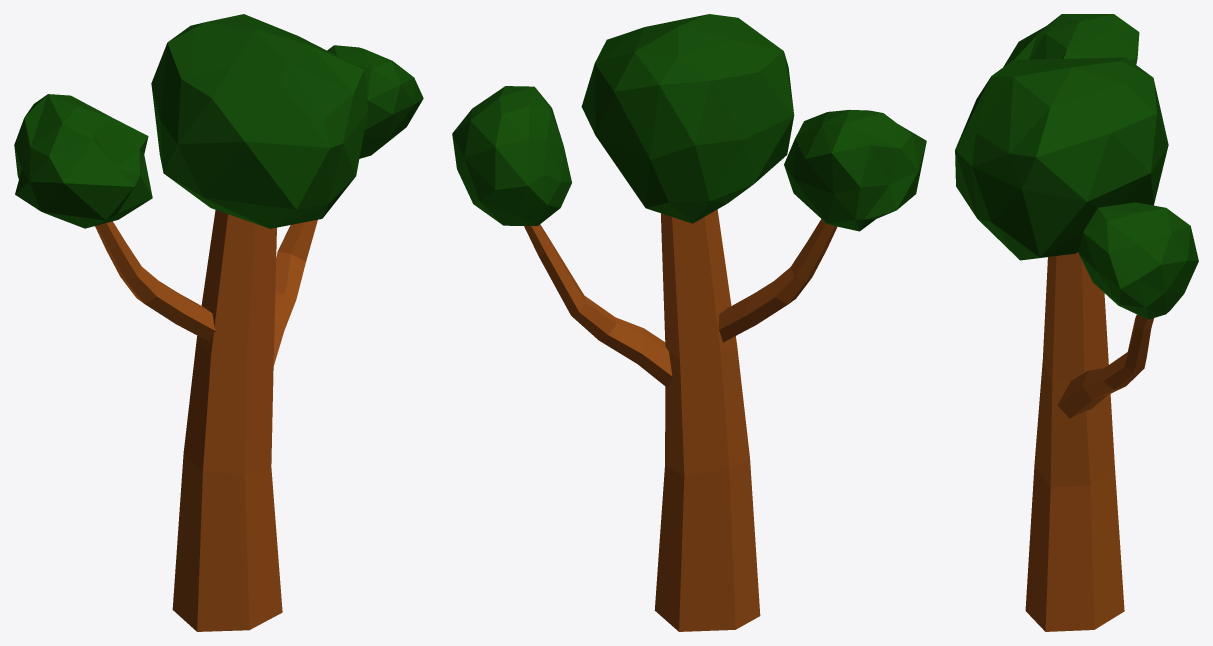
The model's file is Oak2.fbx.
3 renders of one model, left to right at view 1: azimuth 30°, elevation 25°; view 2: azimuth 150°, elevation 25°; view 3: azimuth 270°, elevation 25°, orthographic. The views are drawn at different scales.
Parts seen in each view (by area): view 1: Oak2; view 2: Oak2; view 3: Oak2.
Boxes of the visible parts, left/top/right/bottom form: Oak2: left=14, top=14, right=423, bottom=631; Oak2: left=452, top=14, right=926, bottom=631; Oak2: left=955, top=14, right=1198, bottom=631.
Size of the model in its own units: 599 by 777 by 307.
